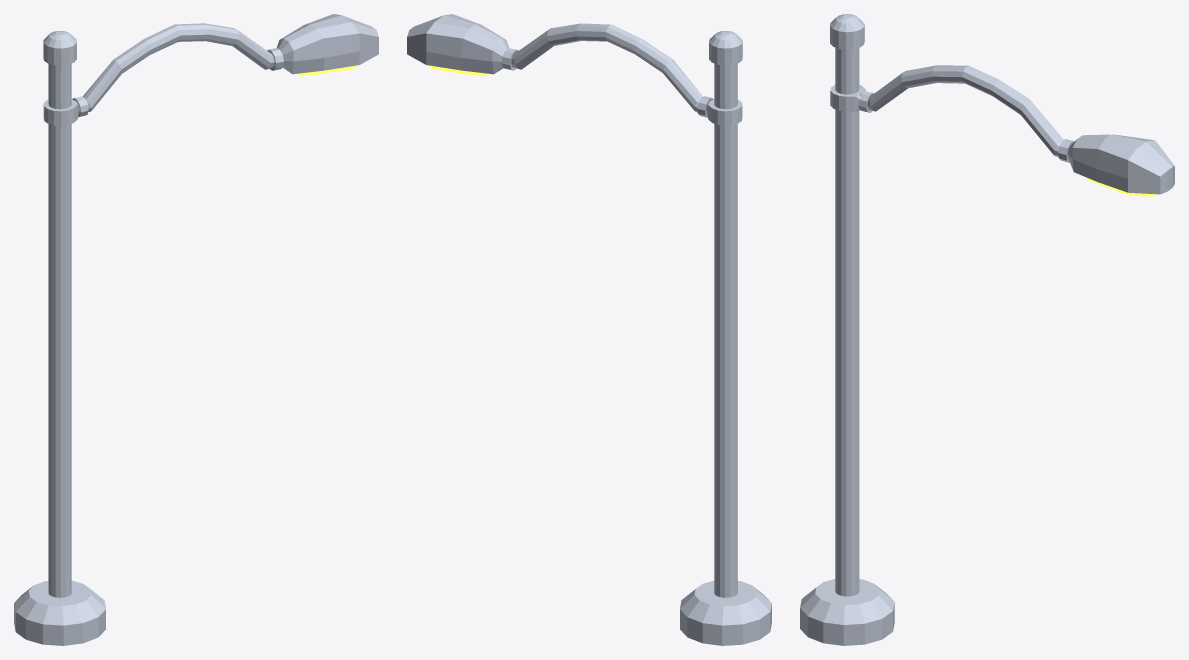
The model's file is StreetLight_01.fbx.
3 views of the same model, side by side, from view 1: azimuth 30°, elevation 25°; view 2: azimuth 150°, elevation 25°; view 3: azimuth 330°, elevation 25° (orthographic). The views are drawn at different scales.
Parts seen in each view (by area): view 1: StreetLight; view 2: StreetLight; view 3: StreetLight.
Part boxes in pixels (x1,y1,x2,y2): StreetLight: (14,14,378,645); StreetLight: (407,14,771,645); StreetLight: (800,14,1174,645).
Bounding box in the file's own units: 164 × 719 × 1153.
